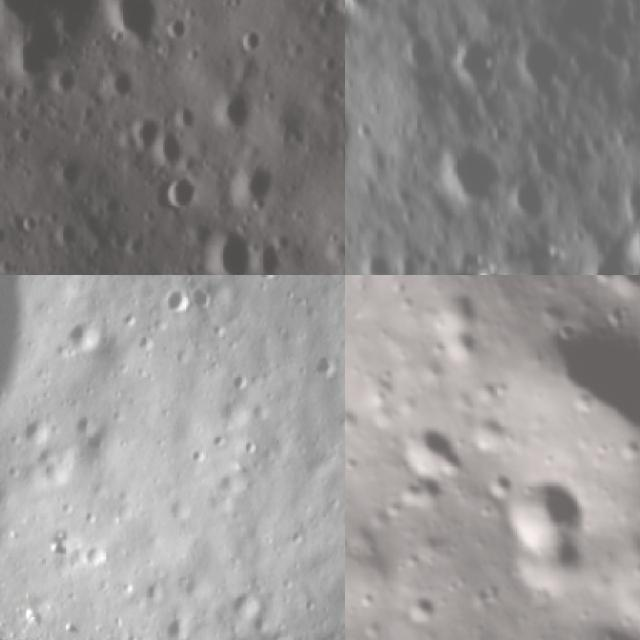crater: (510, 283, 640, 481), (478, 449, 602, 566), (0, 0, 135, 98), (496, 520, 598, 616), (416, 275, 503, 372), (430, 134, 520, 225), (388, 406, 473, 496), (435, 26, 520, 110), (498, 24, 576, 104), (494, 165, 564, 239), (387, 460, 451, 524), (96, 0, 173, 50), (192, 218, 259, 275), (392, 21, 451, 80), (223, 150, 281, 207), (399, 578, 453, 635), (319, 152, 345, 260), (58, 310, 110, 362), (210, 81, 260, 135), (345, 86, 376, 172), (574, 238, 640, 275), (155, 166, 203, 214), (246, 231, 295, 275), (153, 275, 200, 320), (227, 582, 272, 628), (123, 108, 167, 155), (228, 16, 273, 60), (345, 241, 402, 275), (43, 58, 87, 102), (104, 61, 144, 109), (46, 146, 86, 192), (612, 172, 640, 234), (593, 275, 640, 311), (345, 0, 373, 60), (48, 214, 85, 257), (615, 212, 640, 275), (160, 8, 198, 48), (345, 304, 387, 338), (188, 275, 225, 313), (20, 408, 54, 448), (166, 99, 204, 134), (152, 129, 186, 167), (305, 349, 340, 381), (163, 607, 191, 640), (224, 363, 253, 394), (345, 0, 384, 23), (80, 540, 110, 569), (72, 408, 96, 438), (187, 444, 208, 471), (137, 578, 159, 600), (300, 592, 320, 614), (209, 424, 227, 448), (288, 524, 304, 546), (244, 434, 257, 458), (251, 275, 280, 285)
